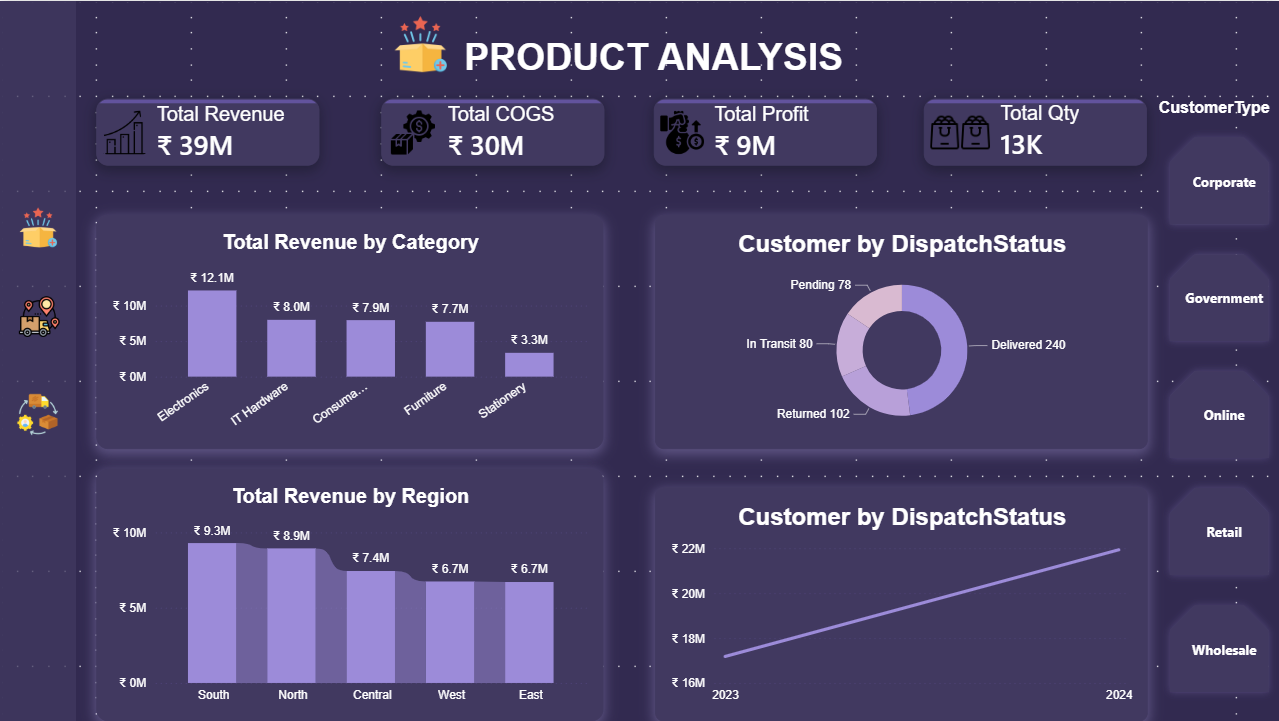

The page's visual inventory and layout, read from the dashboard file:
{"tool":"powerbi","page":{"name":"Product Analysis","canvas":[1280,720],"ordinal":1},"visuals":[{"type":"textbox","box":[293.8,35.5,720,62],"z":0,"group":"g3"},{"type":"cardVisual","fields":{"Data":["calculation.Total Revenue"]},"box":[96.1,97,223.1,67.3],"z":0,"group":"g1"},{"type":"advancedSlicerVisual","fields":{"Values":["fact_sales_dispatch.CustomerType"]},"box":[1158.6,97.1,121.4,607.1],"z":0},{"type":"columnChart","fields":{"Category":["dim_product.Category"],"Y":["calculation.Total Revenue"]},"box":[95.7,212.8,507.1,234.3],"z":0,"group":"g2"},{"type":"textbox","box":[0,0,75.7,720],"z":1000},{"type":"image","box":[348.8,0,143.8,86.4],"z":1000,"group":"g3"},{"type":"group","id":"g1","title":"Group 1","box":[96.1,97,1051,67.3],"z":1000,"group":"g2"},{"type":"cardVisual","fields":{"Data":["calculation.Total COGS"]},"box":[380.9,97,223.1,67.3],"z":1000,"group":"g1"},{"type":"cardVisual","fields":{"Data":["calculation.Total Profit"]},"box":[653.9,97,223.1,67.3],"z":2000,"group":"g1"},{"type":"image","box":[0,191.2,76.2,70],"z":2000},{"type":"columnChart","fields":{"Category":["fact_sales_dispatch.Region"],"Y":["calculation.Total Revenue"]},"box":[95.7,467.1,507.1,252.9],"z":2000,"group":"g2"},{"type":"group","id":"g2","title":"Group 2","box":[95.7,97,1051.4,623],"z":3000},{"type":"cardVisual","fields":{"Data":["calculation.Total Qty"]},"box":[924,97,223.1,67.3],"z":3000,"group":"g1"},{"type":"donutChart","title":"Customer by DispatchStatus","fields":{"Category":["fact_sales_dispatch.DispatchStatus"],"Y":["CountNonNull(fact_sales_dispatch.DispatchID)"]},"box":[654.3,212.8,492.9,234.3],"z":3000,"group":"g2"},{"type":"group","id":"g3","title":"Group 3","box":[293.8,0,720,97.5],"z":4000},{"type":"lineChart","title":"Customer by DispatchStatus","fields":{"Y":["calculation.Total Revenue"],"Category":["dim_date.FullDate.Variation.Date Hierarchy.Year","dim_date.FullDate.Variation.Date Hierarchy.Quarter","dim_date.FullDate.Variation.Date Hierarchy.Month","dim_date.FullDate.Variation.Date Hierarchy.Day"]},"box":[654.3,485.7,492.9,234.3],"z":4000,"group":"g2"},{"type":"image","box":[1.2,280.5,76.1,71.1],"z":5000},{"type":"image","box":[0,377.1,75.7,71.4],"z":6000}]}

Visuals, with their boxes in screenshot pixels (x1, y1, x2, y2), scaled from the page's 1280x720 canvas onto the 1279x721 screenshot:
textbox: (294, 36, 1013, 98)
cardVisual - calculation.Total Revenue: (96, 97, 319, 165)
advancedSlicerVisual - fact_sales_dispatch.CustomerType: (1158, 97, 1278, 705)
columnChart - dim_product.Category x calculation.Total Revenue: (96, 213, 602, 448)
textbox: (0, 0, 76, 720)
image: (349, 0, 492, 87)
"Group 1" group: (96, 97, 1146, 165)
cardVisual - calculation.Total COGS: (381, 97, 604, 165)
cardVisual - calculation.Total Profit: (653, 97, 876, 165)
image: (0, 191, 76, 262)
columnChart - fact_sales_dispatch.Region x calculation.Total Revenue: (96, 468, 602, 720)
"Group 2" group: (96, 97, 1146, 720)
cardVisual - calculation.Total Qty: (923, 97, 1146, 165)
"Customer by DispatchStatus" donutChart: (654, 213, 1146, 448)
"Group 3" group: (294, 0, 1013, 98)
"Customer by DispatchStatus" lineChart: (654, 486, 1146, 720)
image: (1, 281, 77, 352)
image: (0, 378, 76, 449)
